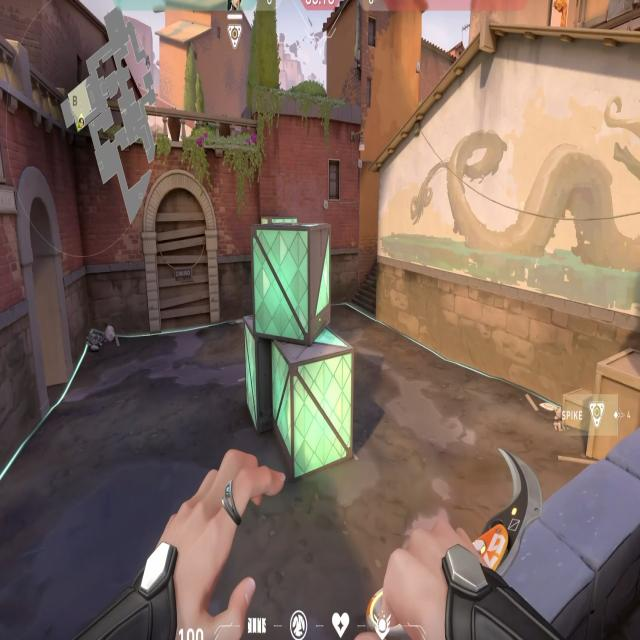B_Boathouse: (11, 162, 78, 418)
B_Site_Box: (232, 200, 364, 493)
